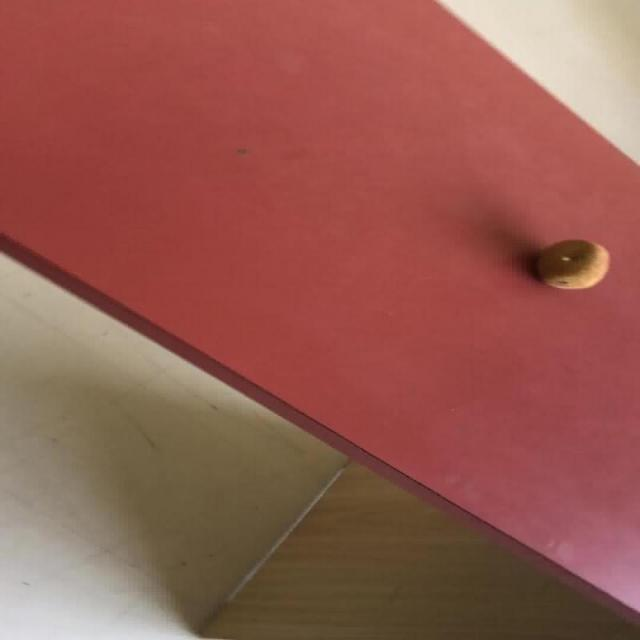Kiwi: (535, 238, 610, 290)
